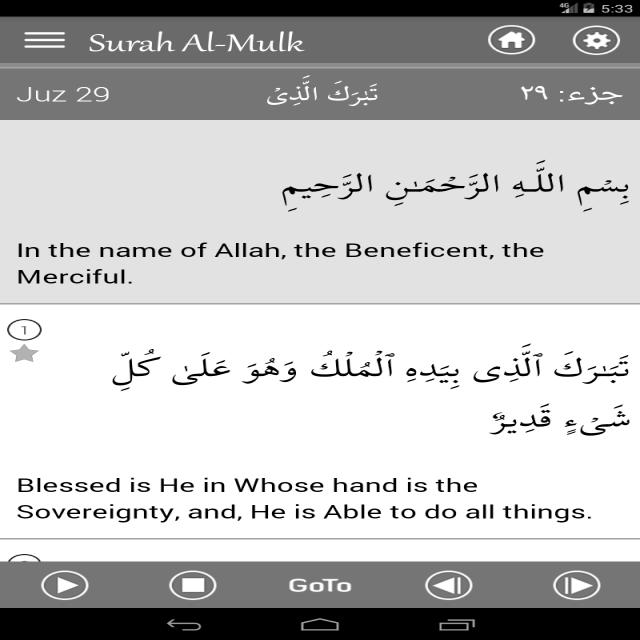TextView: (99, 345, 625, 441), (6, 472, 606, 528), (16, 239, 562, 289), (269, 163, 631, 209), (88, 26, 314, 56), (498, 75, 628, 111), (257, 73, 378, 109), (3, 78, 109, 106), (283, 574, 365, 598)
